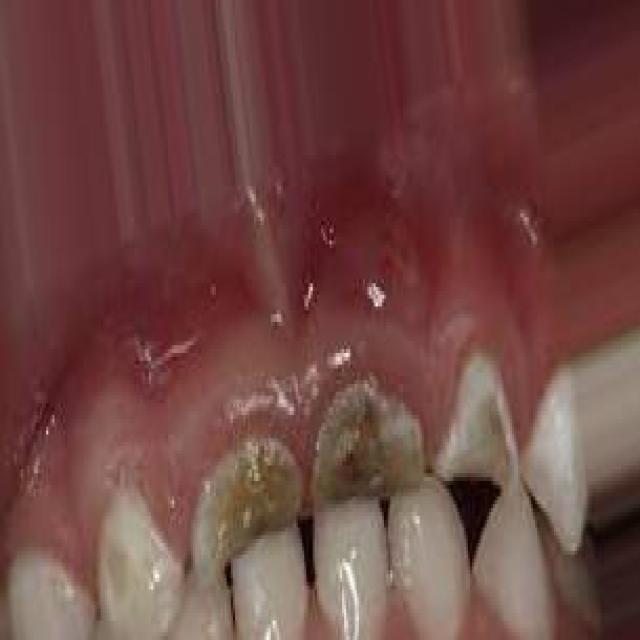caries: (303, 362, 429, 523), (188, 428, 302, 580), (434, 353, 526, 511), (92, 503, 149, 625)
